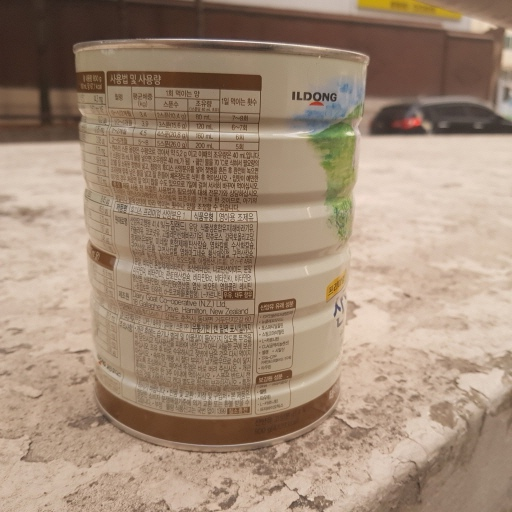Metal_1: (72, 32, 374, 452)
